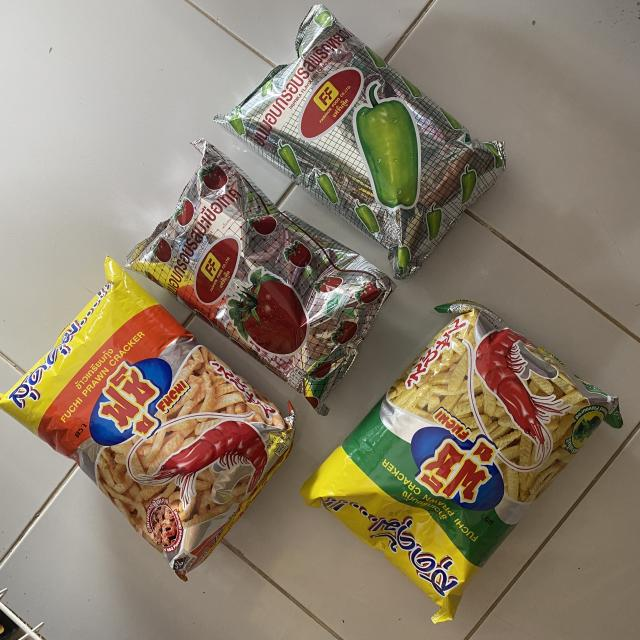plastik: (301, 301, 622, 622), (0, 258, 295, 580), (215, 5, 505, 279), (126, 139, 394, 414)
